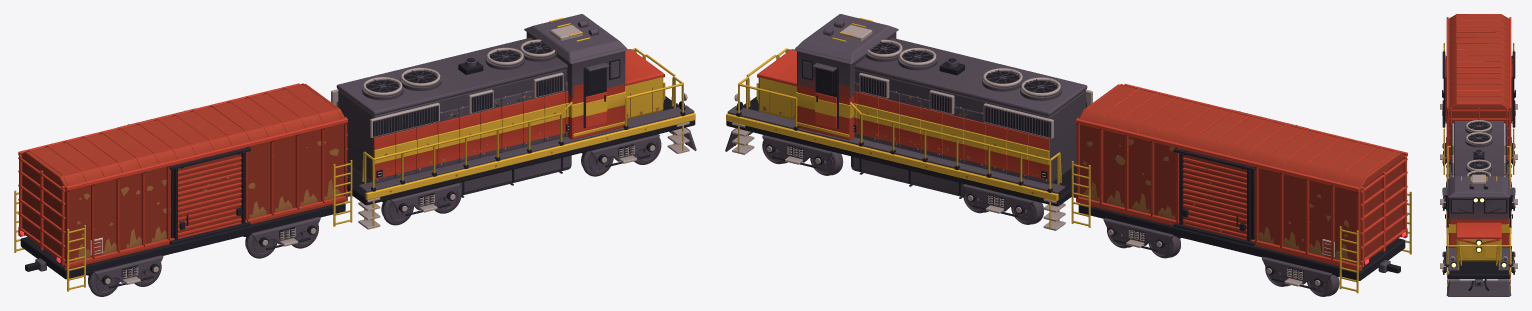
The model's file is veh.train-freight.glb.
The picture shows the model from 3 angles, left to right: view 1: azimuth 30°, elevation 25°; view 2: azimuth 150°, elevation 25°; view 3: azimuth 270°, elevation 25°; orthographic projection. The views are drawn at different scales.
Visible parts, largest first — view 1: body, object 8, wheelRR; view 2: body, object 8, wheelRL; view 3: body, object 8, lightsFront.
Boxes of the visible parts, box(x1,y1,x2,y2) form: body: box(14, 14, 696, 291); object 8: box(88, 67, 613, 296); wheelRR: box(381, 199, 413, 225); body: box(725, 14, 1411, 293); object 8: box(810, 68, 1339, 296); wheelRL: box(1011, 201, 1043, 224); body: box(1440, 14, 1517, 296); object 8: box(1442, 54, 1515, 233); lightsFront: box(1451, 198, 1506, 267).
Size of the model in its own units: 24.75 by 4.81 by 3.88.
